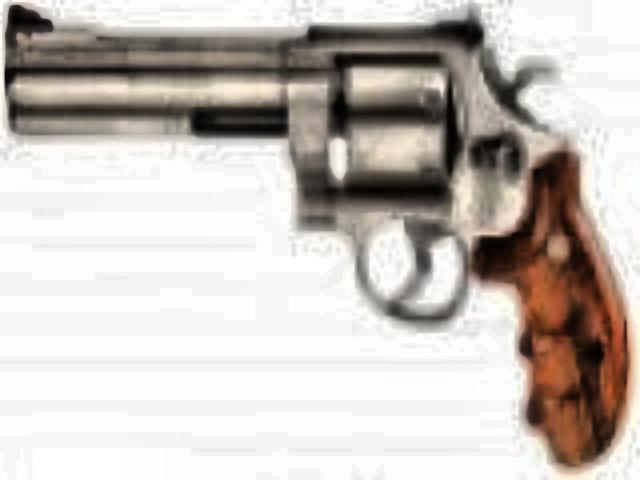pistol: (0, 0, 620, 460)
